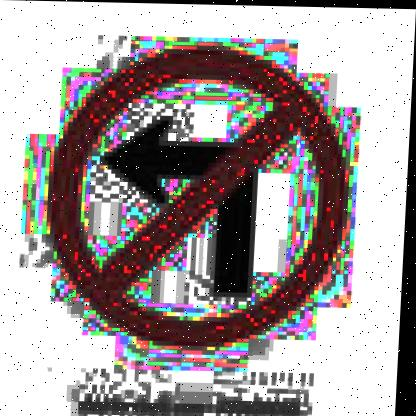No left turn: (42, 42, 356, 349)
